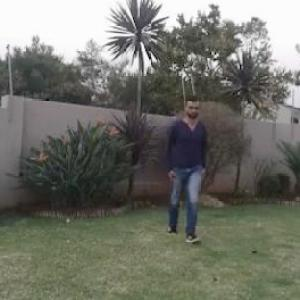follow: (166, 98, 204, 232)
